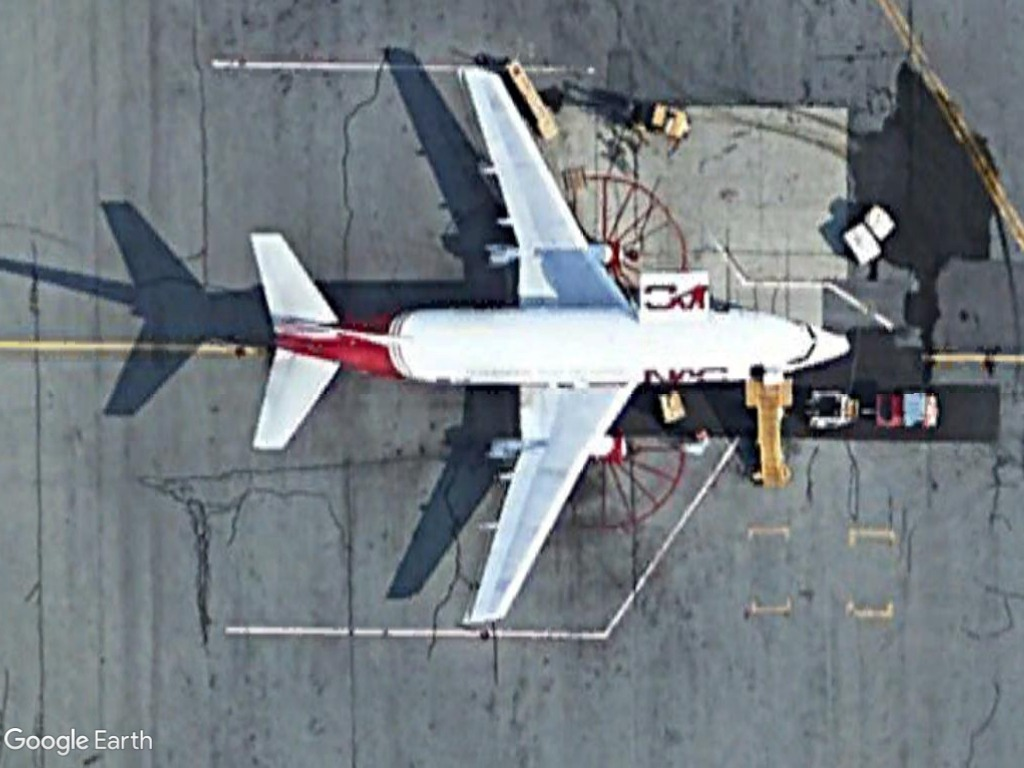airliner: (241, 52, 855, 630)
